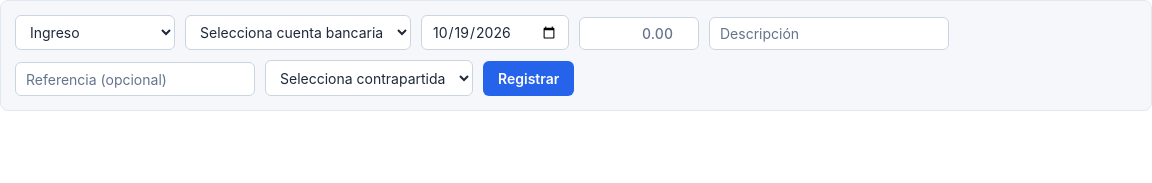
FormularioMovimiento › usa un mensaje por defecto cuando el error no trae cuerpo
Select "BAC 123" in the dropdown named "Cuenta bancaria" at (298, 33), box [185, 15, 411, 50]
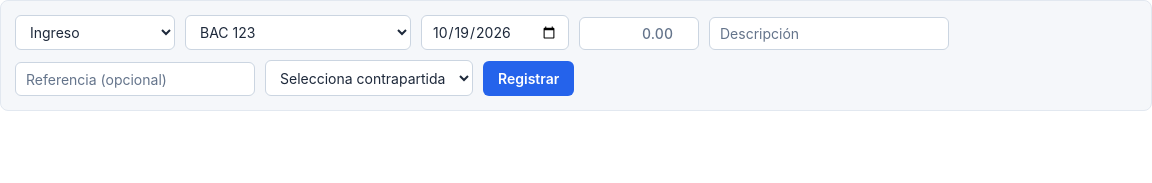
Type "2025-03-01" into the date field named "Fecha del movimiento" at (495, 33), box [421, 15, 569, 50]
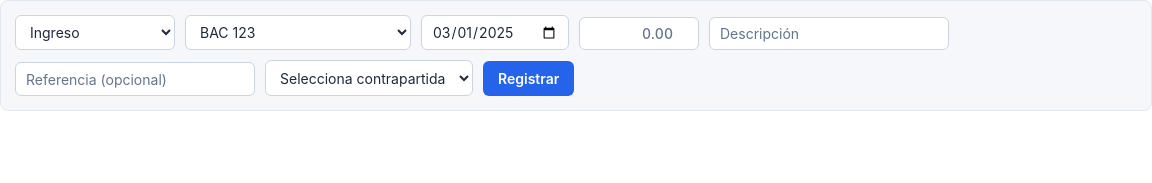
Type "200" into the number field named "Monto del movimiento" at (639, 34), box [579, 17, 699, 50]
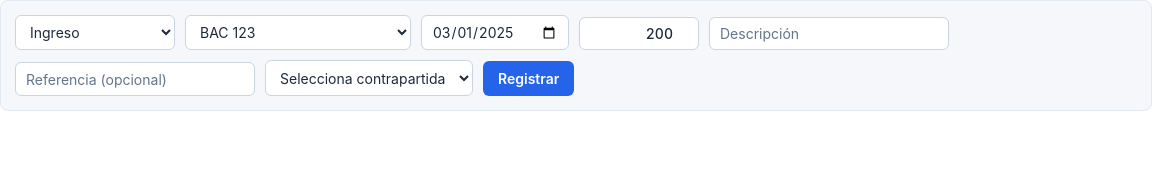
Type " Comisión " into the field named "Descripción del movimiento" at (829, 34), box [709, 17, 949, 50]
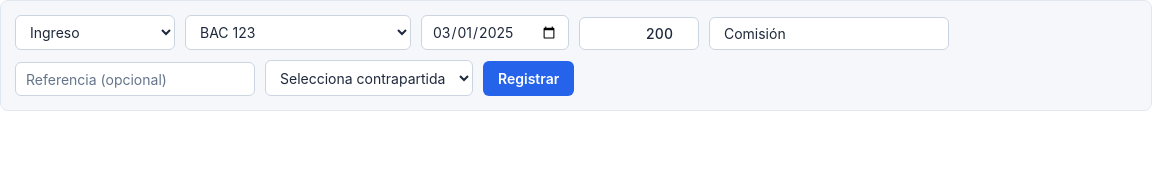
Select "4201 - Intereses" in the dropdown named "Cuenta de contrapartida" at (369, 78), box [265, 60, 473, 96]
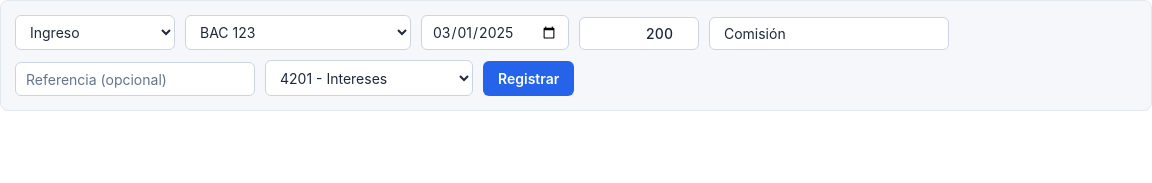
Click the button "Registrar" at (529, 78), box [483, 61, 574, 96]
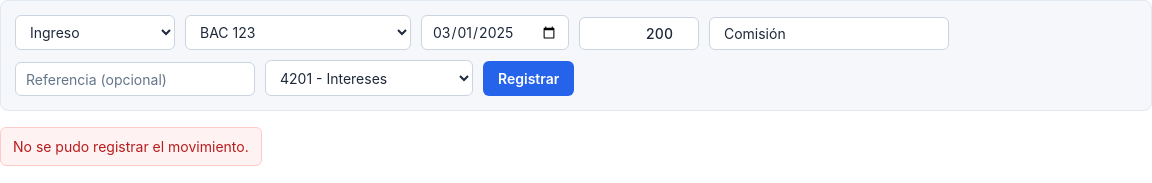
Result: the text "No se pudo registrar el movimiento." is shown at [0, 127, 262, 166]
